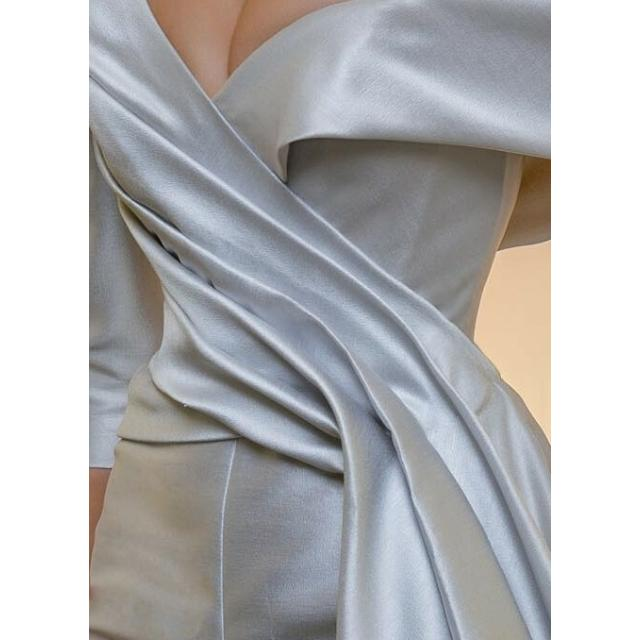silk: (89, 0, 551, 640)
